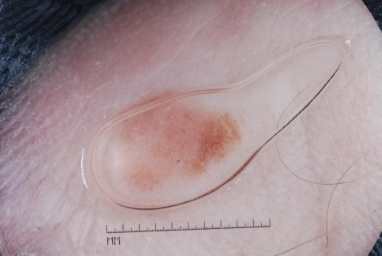melanoma: (118, 93, 242, 191)
